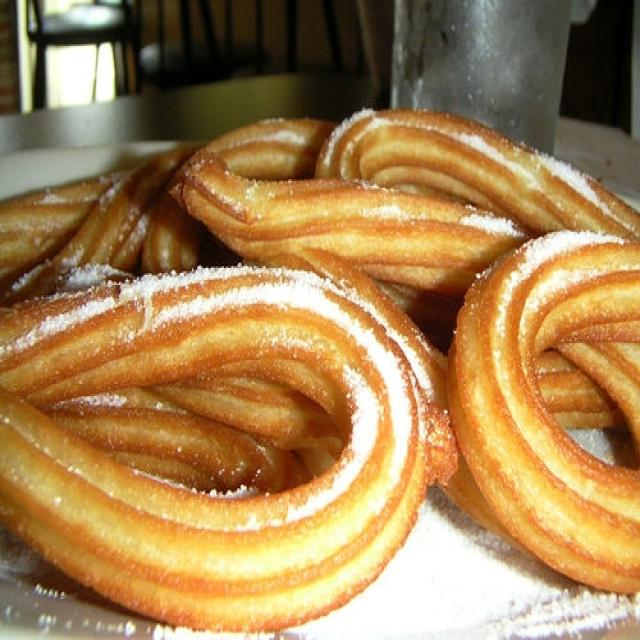炸货点心: (8, 77, 617, 609)
